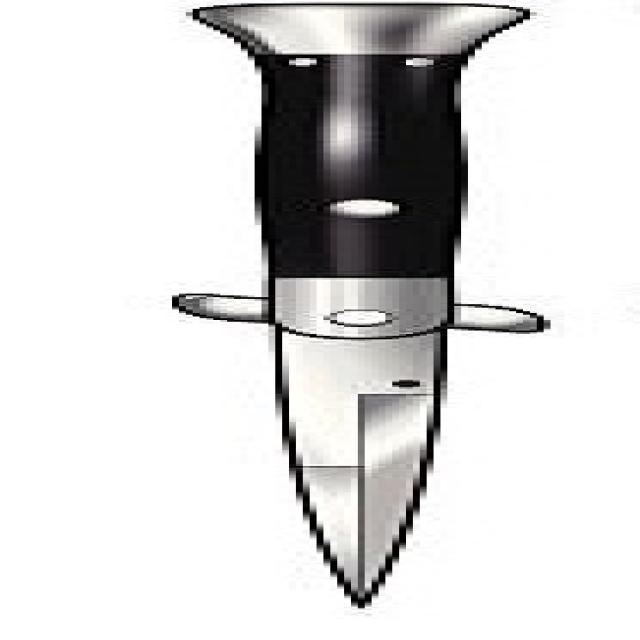knife: (132, 1, 552, 616)
